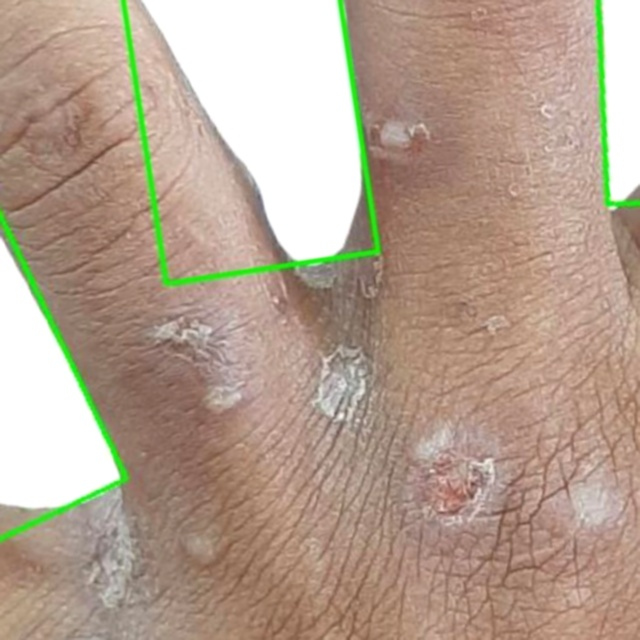Scabies: (123, 0, 378, 283)
